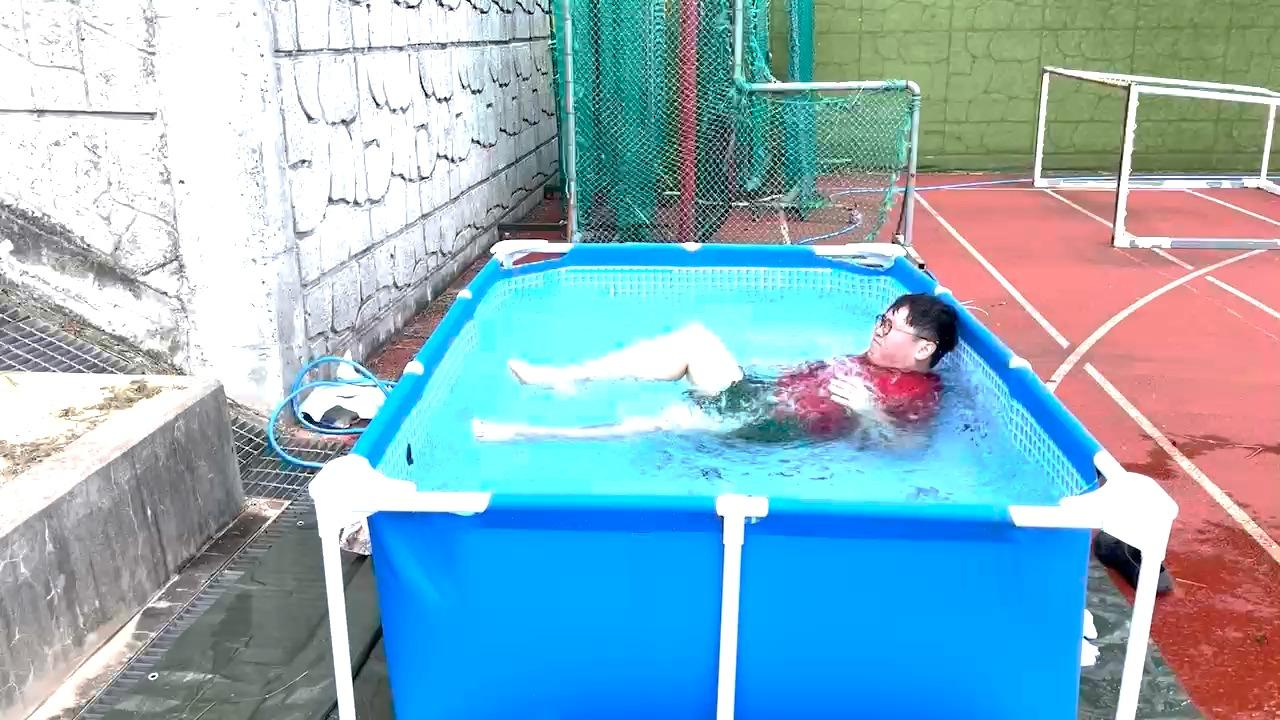Drowning: (484, 301, 946, 449)
